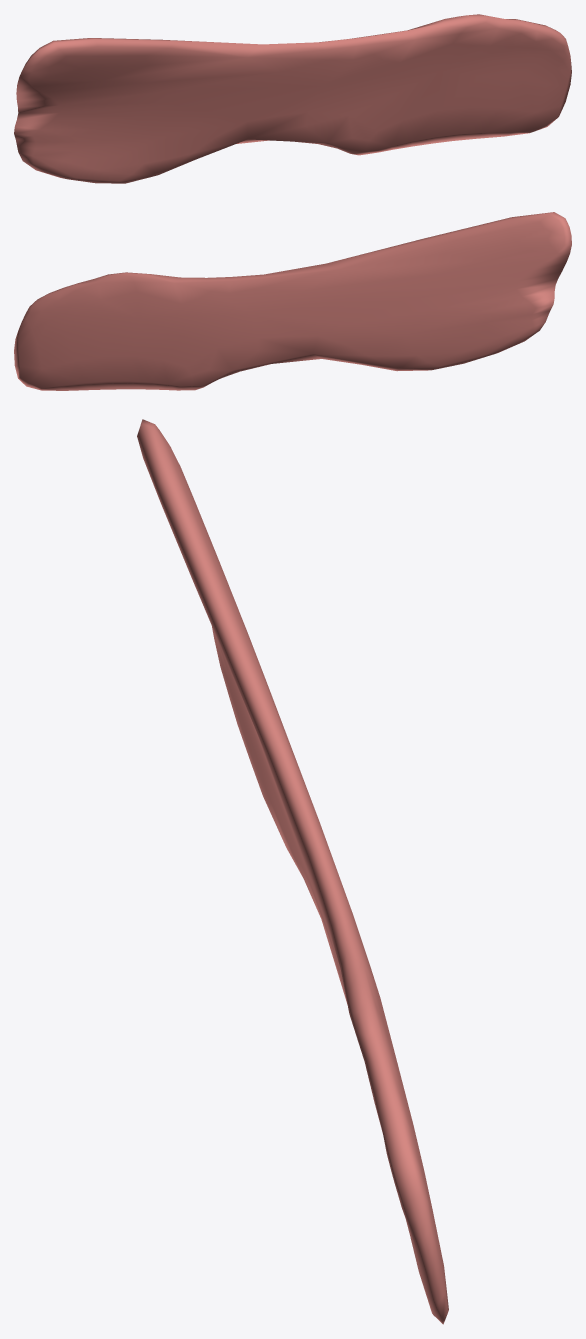
3 renders of one model, top to bottom at view 1: azimuth 30°, elevation 25°; view 2: azimuth 150°, elevation 25°; view 3: azimuth 270°, elevation 25°, orthographic. The views are drawn at different scales.
Visible parts, largest first — view 1: ZA_67c25db7fd2d920a; view 2: ZA_67c25db7fd2d920a; view 3: ZA_67c25db7fd2d920a.
Part boxes in pixels (bbox=[...]): ZA_67c25db7fd2d920a: bbox=[14, 14, 571, 183]; ZA_67c25db7fd2d920a: bbox=[14, 212, 571, 390]; ZA_67c25db7fd2d920a: bbox=[137, 419, 448, 1324].
Bounding box in the file's own units: 0.0199 × 0.00895 × 0.00549.
